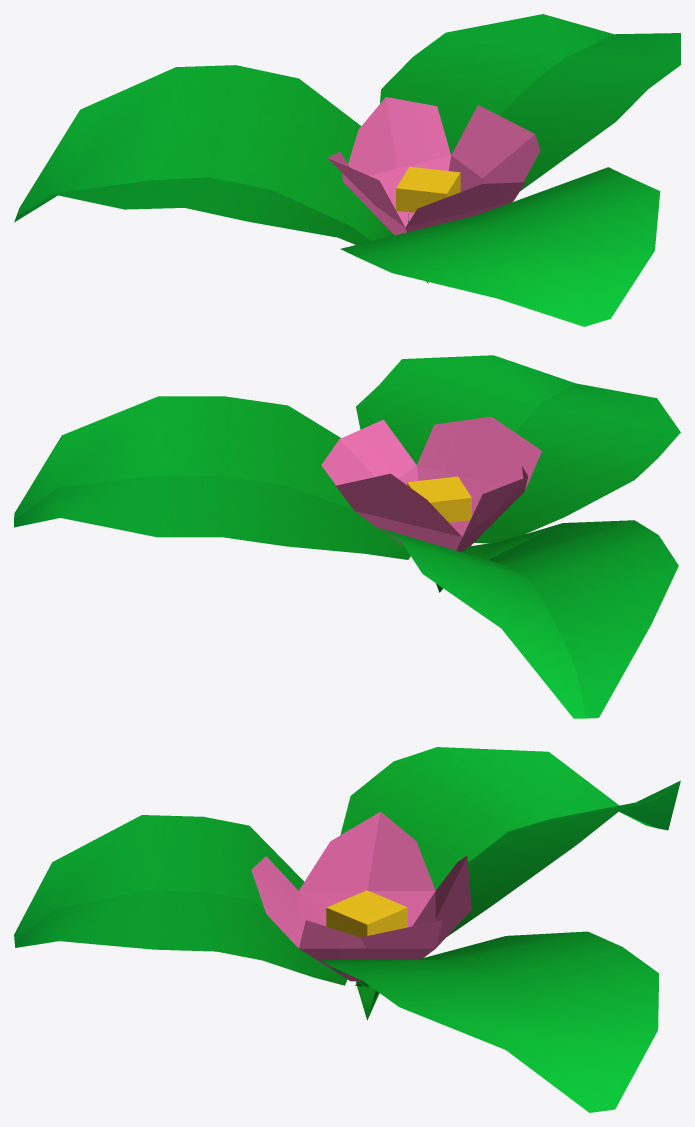
File: Foliage_2.fbx
The picture shows the model from 3 angles, top to bottom: view 1: azimuth 30°, elevation 25°; view 2: azimuth 150°, elevation 25°; view 3: azimuth 270°, elevation 25°; orthographic projection. The views are drawn at different scales.
Parts seen in each view (by area): view 1: Foliage_2; view 2: Foliage_2; view 3: Foliage_2.
Boxes of the visible parts, x1,y1,x2,y2 form: Foliage_2: [14, 14, 680, 326]; Foliage_2: [14, 355, 680, 718]; Foliage_2: [14, 747, 680, 1112].
Size of the model in its own units: 0.5161 by 0.1219 by 0.4383.
